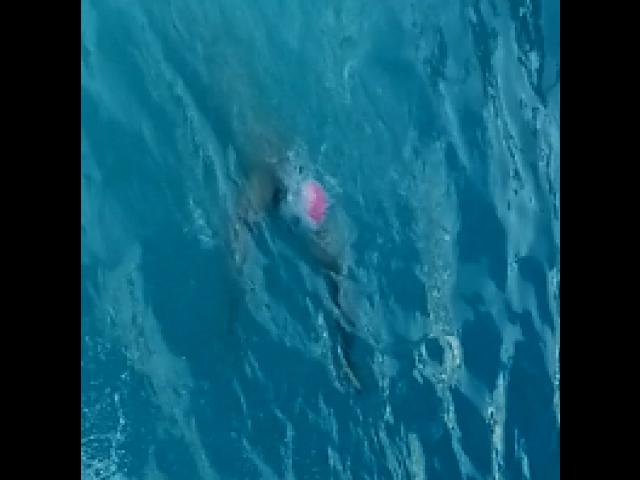swimming: (213, 68, 357, 274)
